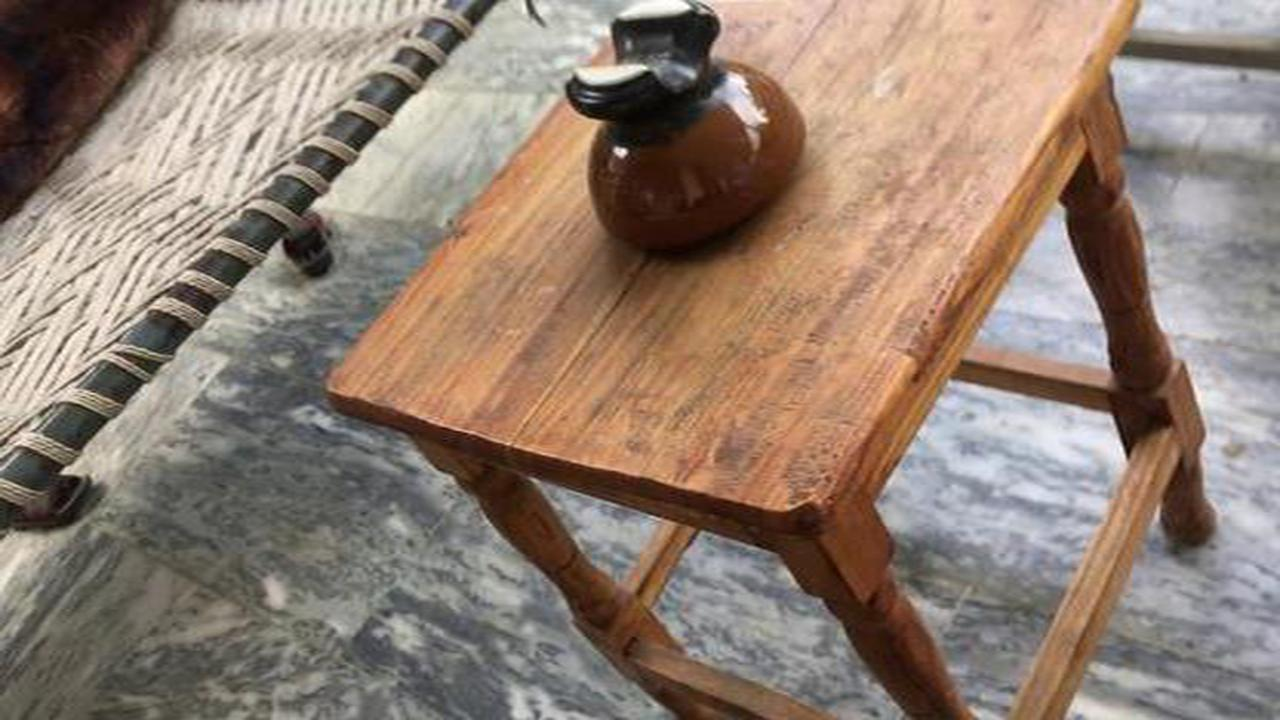insulator_pin: (545, 2, 825, 271)
